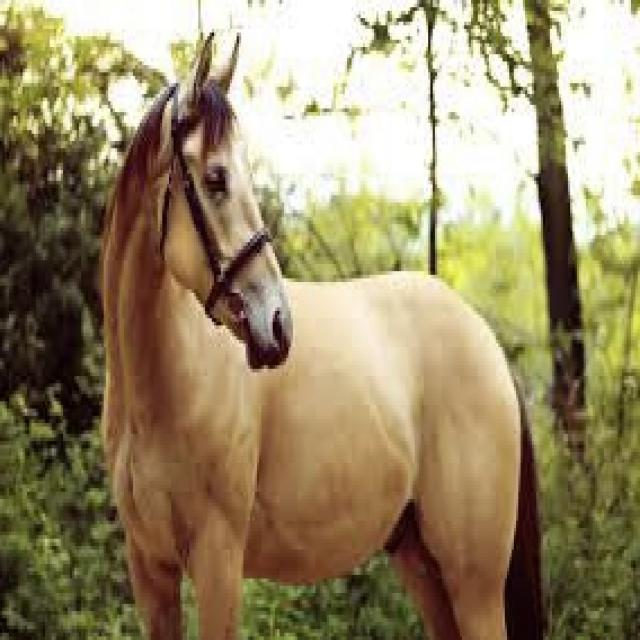horse: (104, 36, 543, 636)
